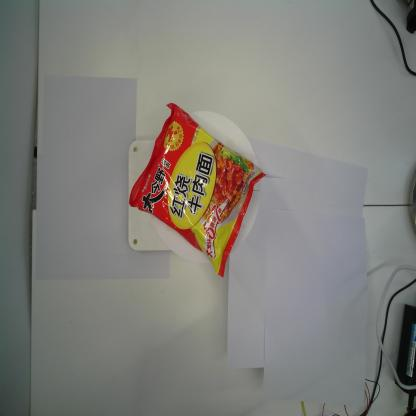Instant Noodles: (128, 101, 267, 279)
